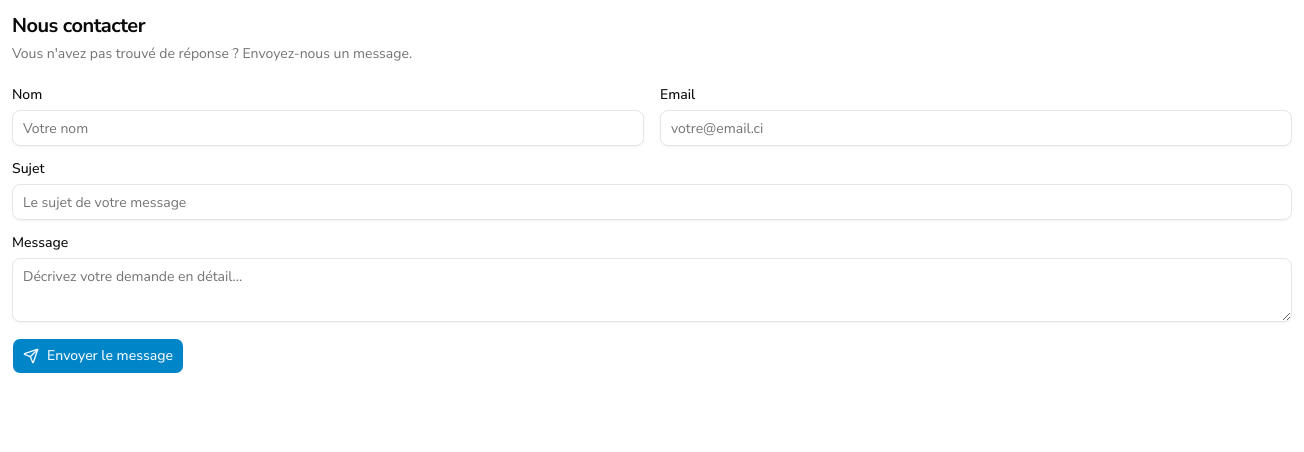
ContactForm › shows server error message on failure
The width and height of the screenshot is (1304, 452).
In the field labelled "Nom": (328, 128) [12,110,644,146], type "Kouamé"
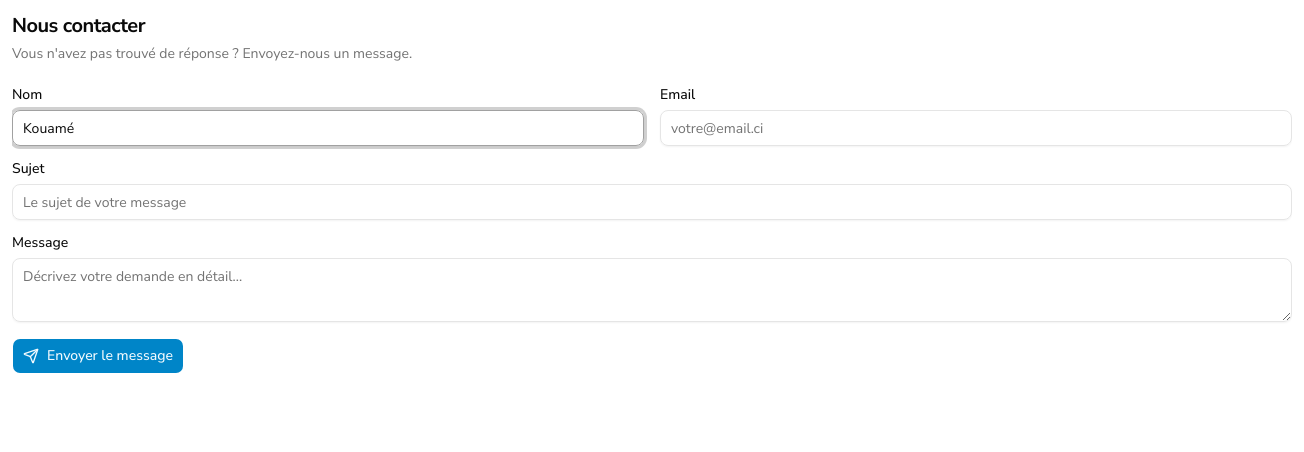
In the field labelled "Email": (976, 128) [660,110,1292,146], type "k@t.ci"
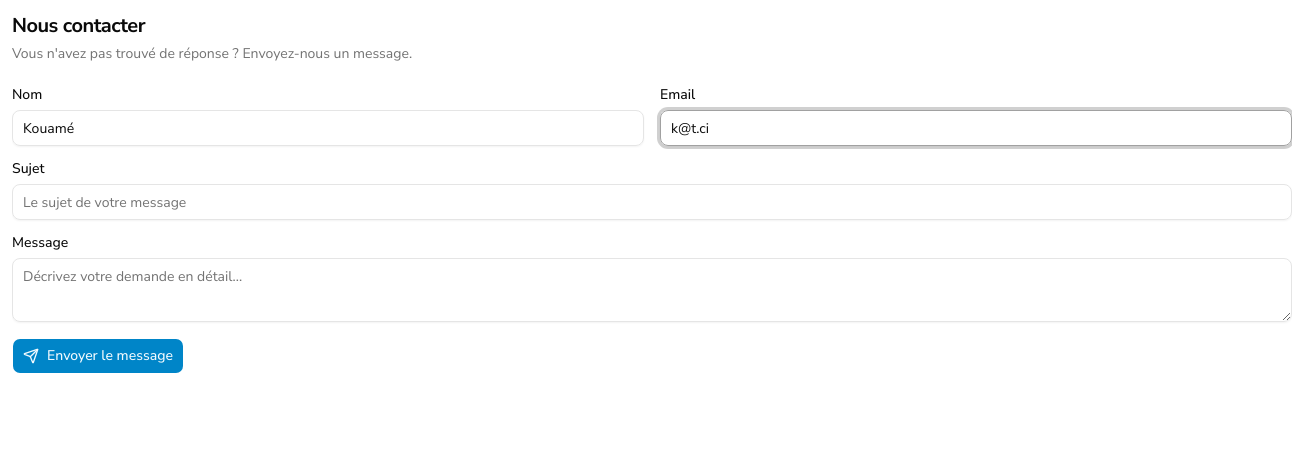
In the field labelled "Sujet": (652, 202) [12,184,1292,220], type "Question test"
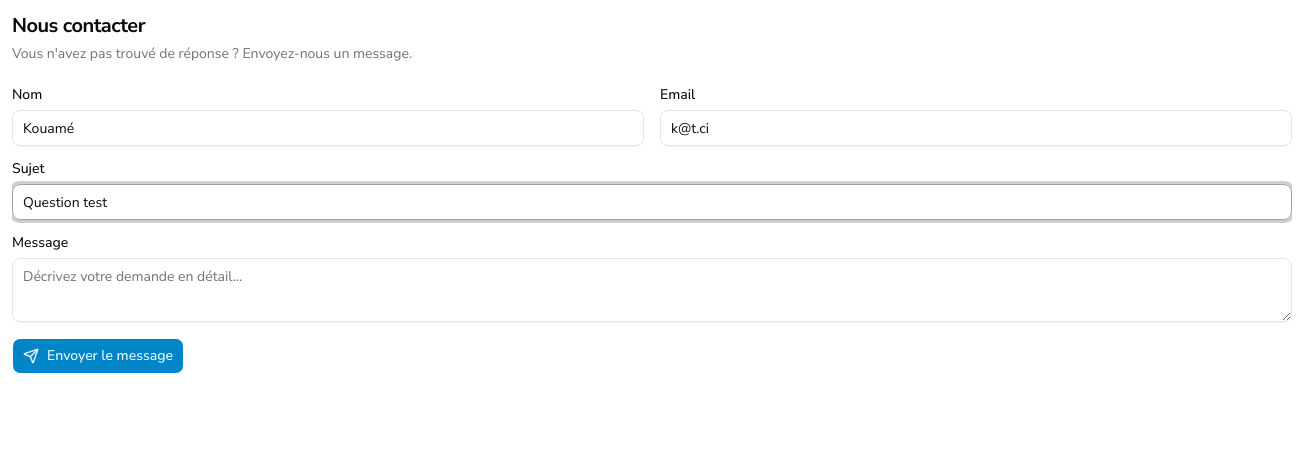
In the text box labelled "Message": (652, 290) [12,258,1292,322], type "Un message de test assez long"
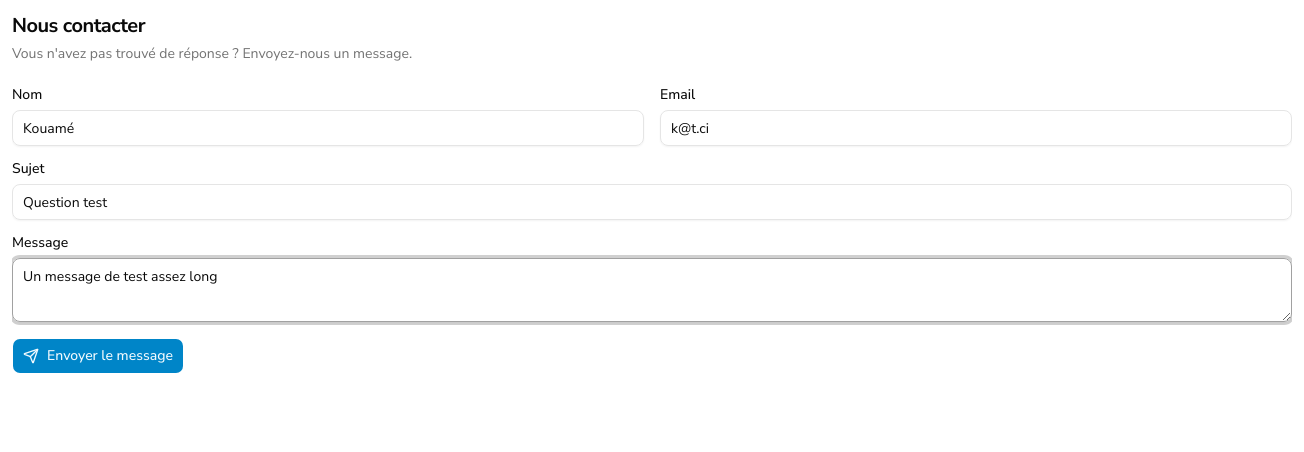
Click the button "Envoyer le message": (98, 356) [12,338,184,374]
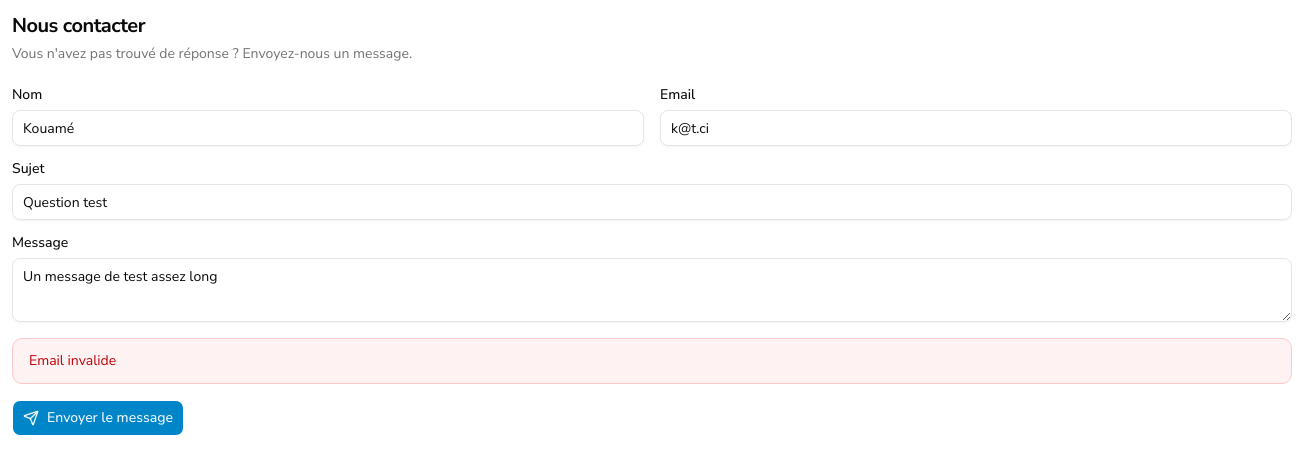
Expected: the text "Email invalide" is shown, [12,338,1292,384]
